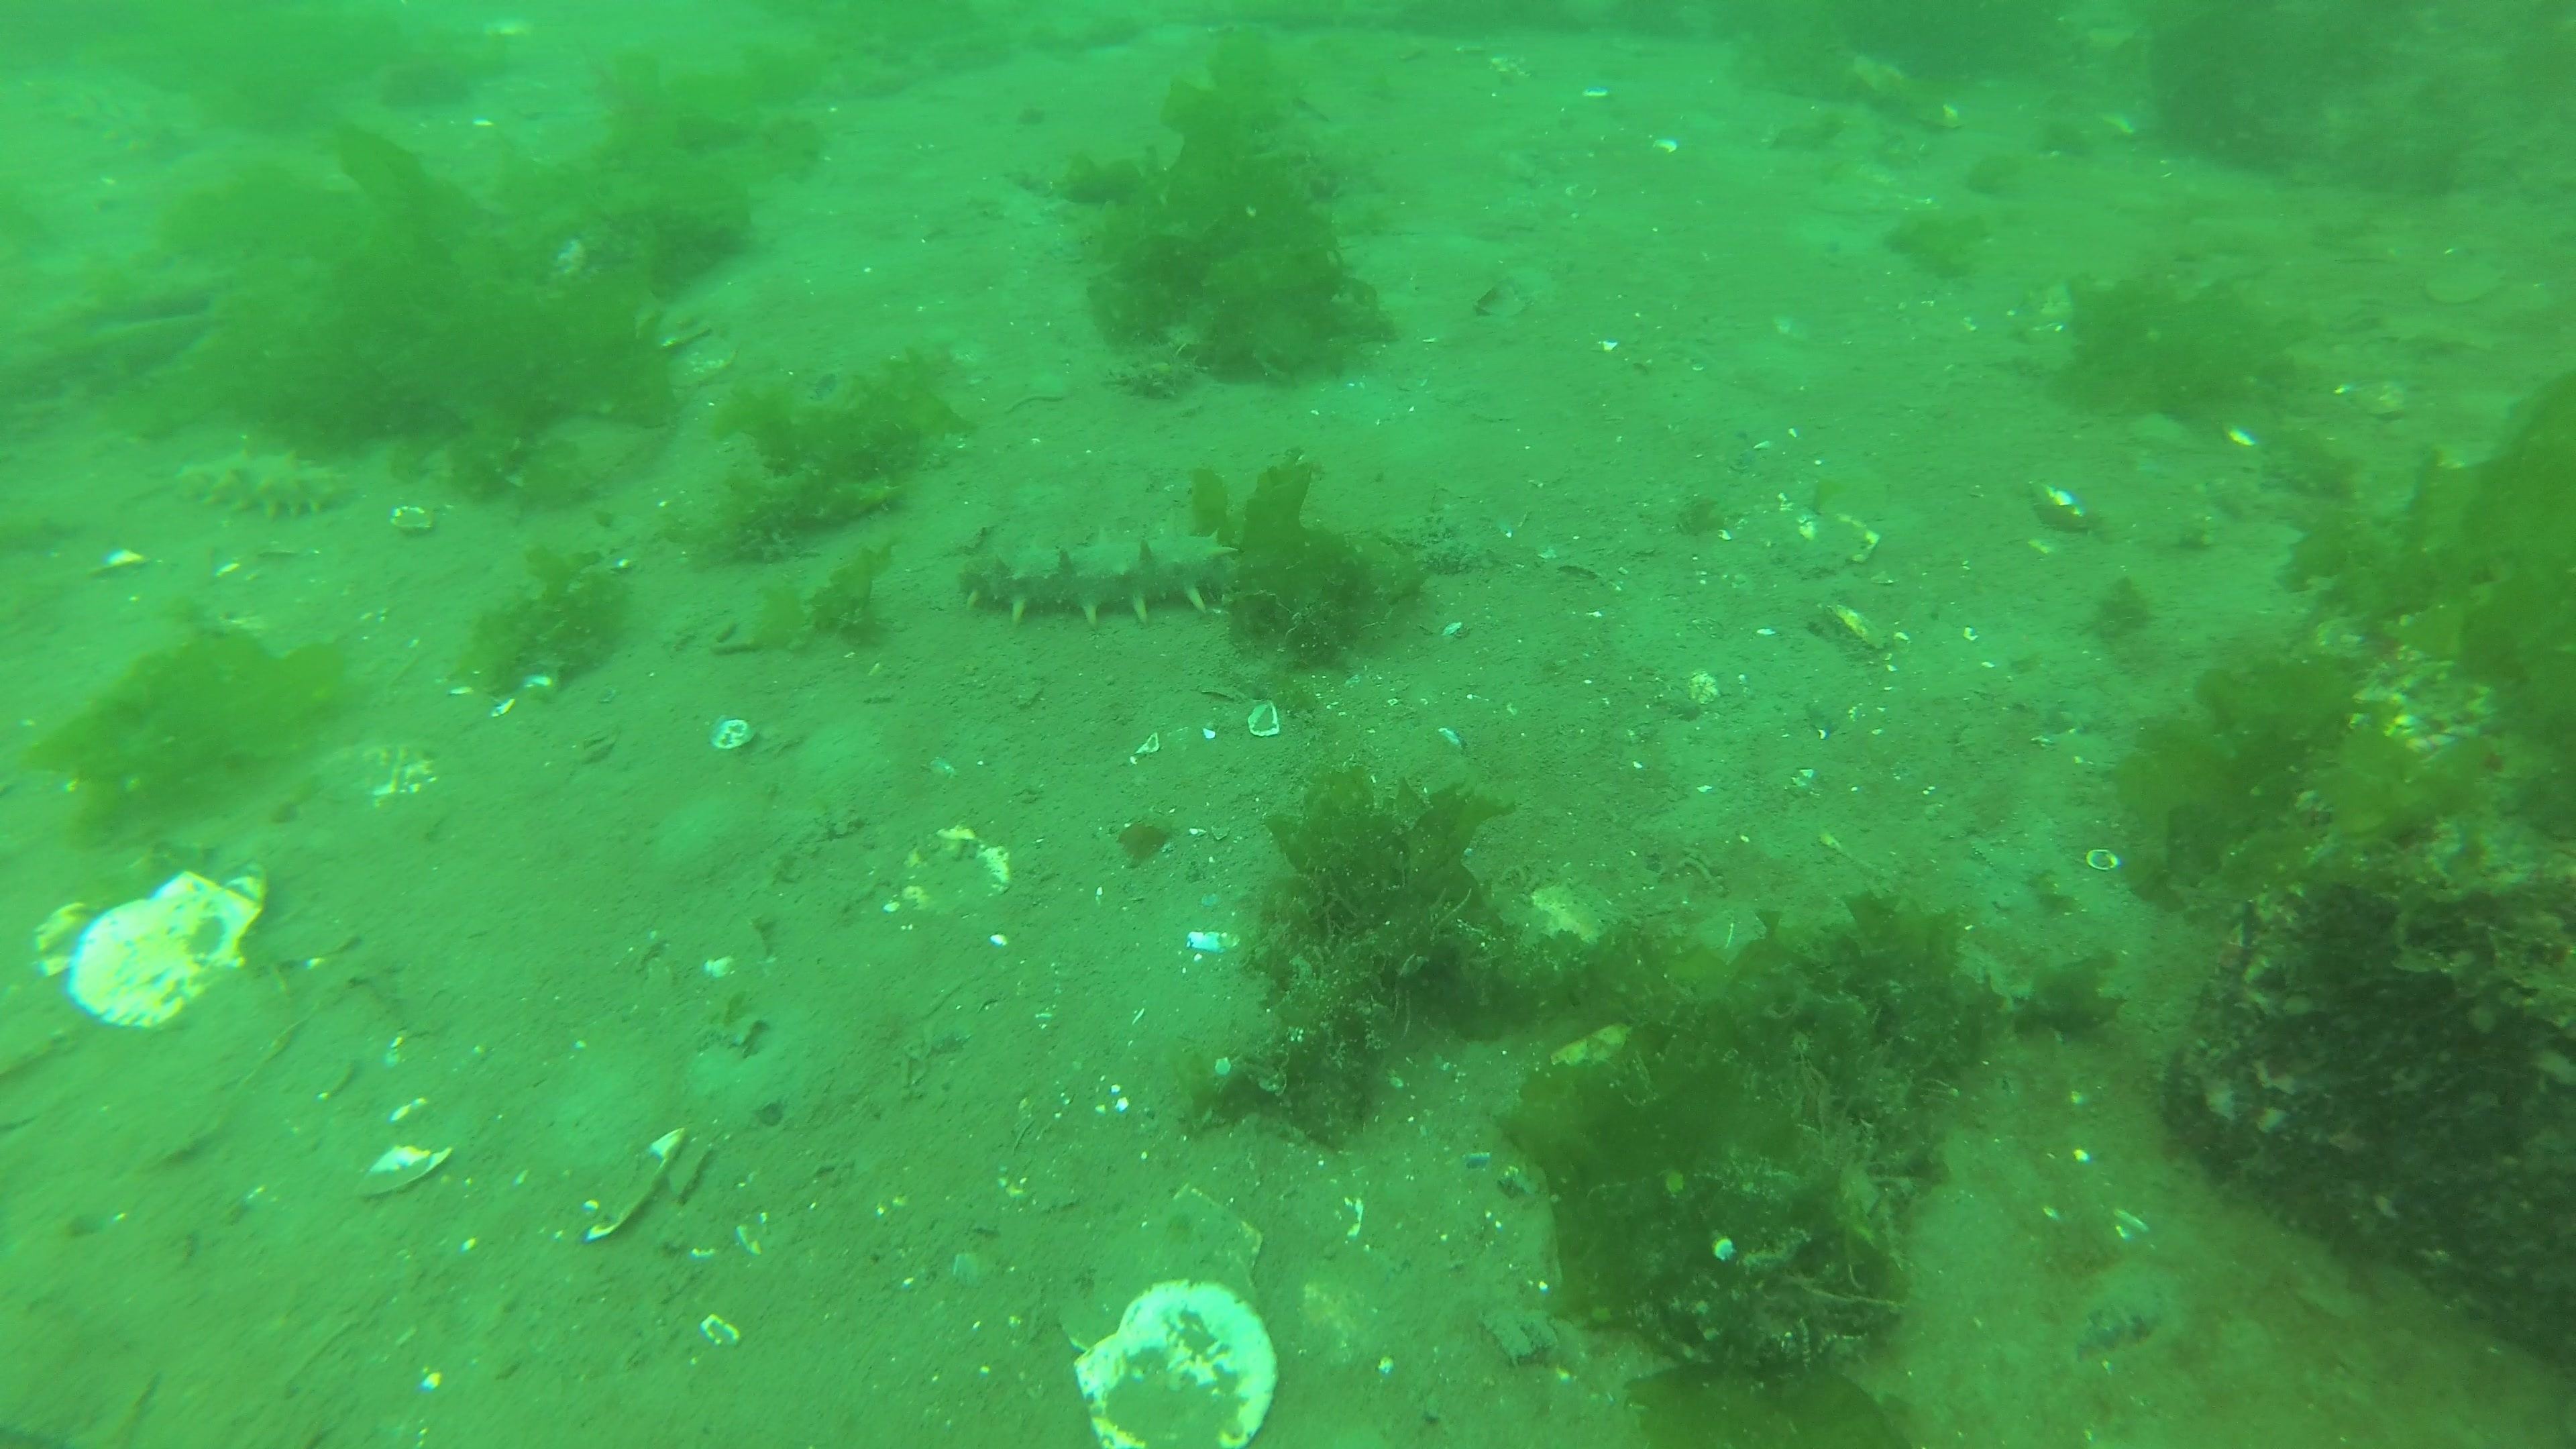holothurian: (957, 522, 1242, 617), (172, 444, 361, 525), (67, 96, 214, 152)
scallop: (53, 849, 267, 1033), (1072, 1283, 1283, 1449)
